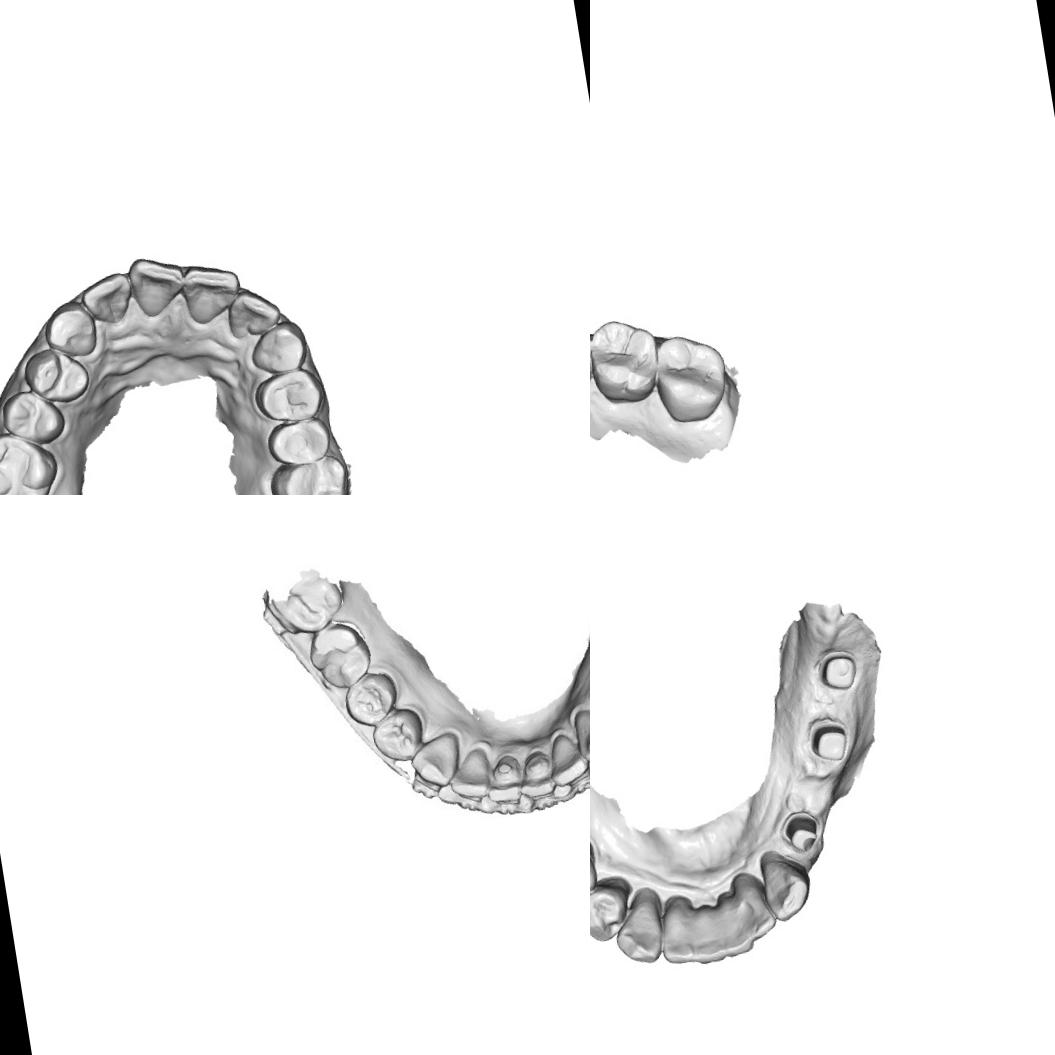abutment: (802, 712, 856, 768), (812, 645, 863, 696), (776, 807, 824, 856)
canine: (756, 844, 817, 925), (608, 888, 668, 968), (246, 316, 314, 378), (40, 296, 101, 362), (406, 734, 464, 784), (572, 704, 590, 763)
incisor: (180, 256, 246, 328), (124, 250, 188, 321), (77, 269, 139, 330), (222, 282, 284, 342), (731, 869, 780, 943), (445, 742, 502, 802), (653, 892, 697, 968), (714, 890, 756, 958), (685, 901, 727, 968), (516, 742, 564, 798), (480, 751, 528, 807), (546, 729, 590, 784)
molar: (648, 327, 735, 427), (590, 312, 666, 409), (0, 424, 65, 495), (309, 618, 372, 688), (266, 451, 356, 495)
premolar: (20, 342, 95, 410), (250, 364, 329, 427), (0, 385, 71, 452), (263, 413, 334, 470), (590, 871, 638, 946), (342, 670, 401, 727), (368, 708, 429, 762)
